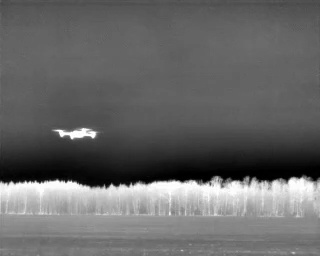DRONE: (48, 120, 106, 146)
